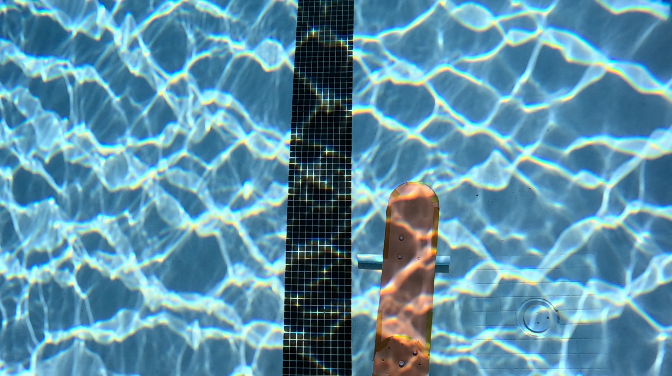pathmarker: (372, 182, 438, 375)
